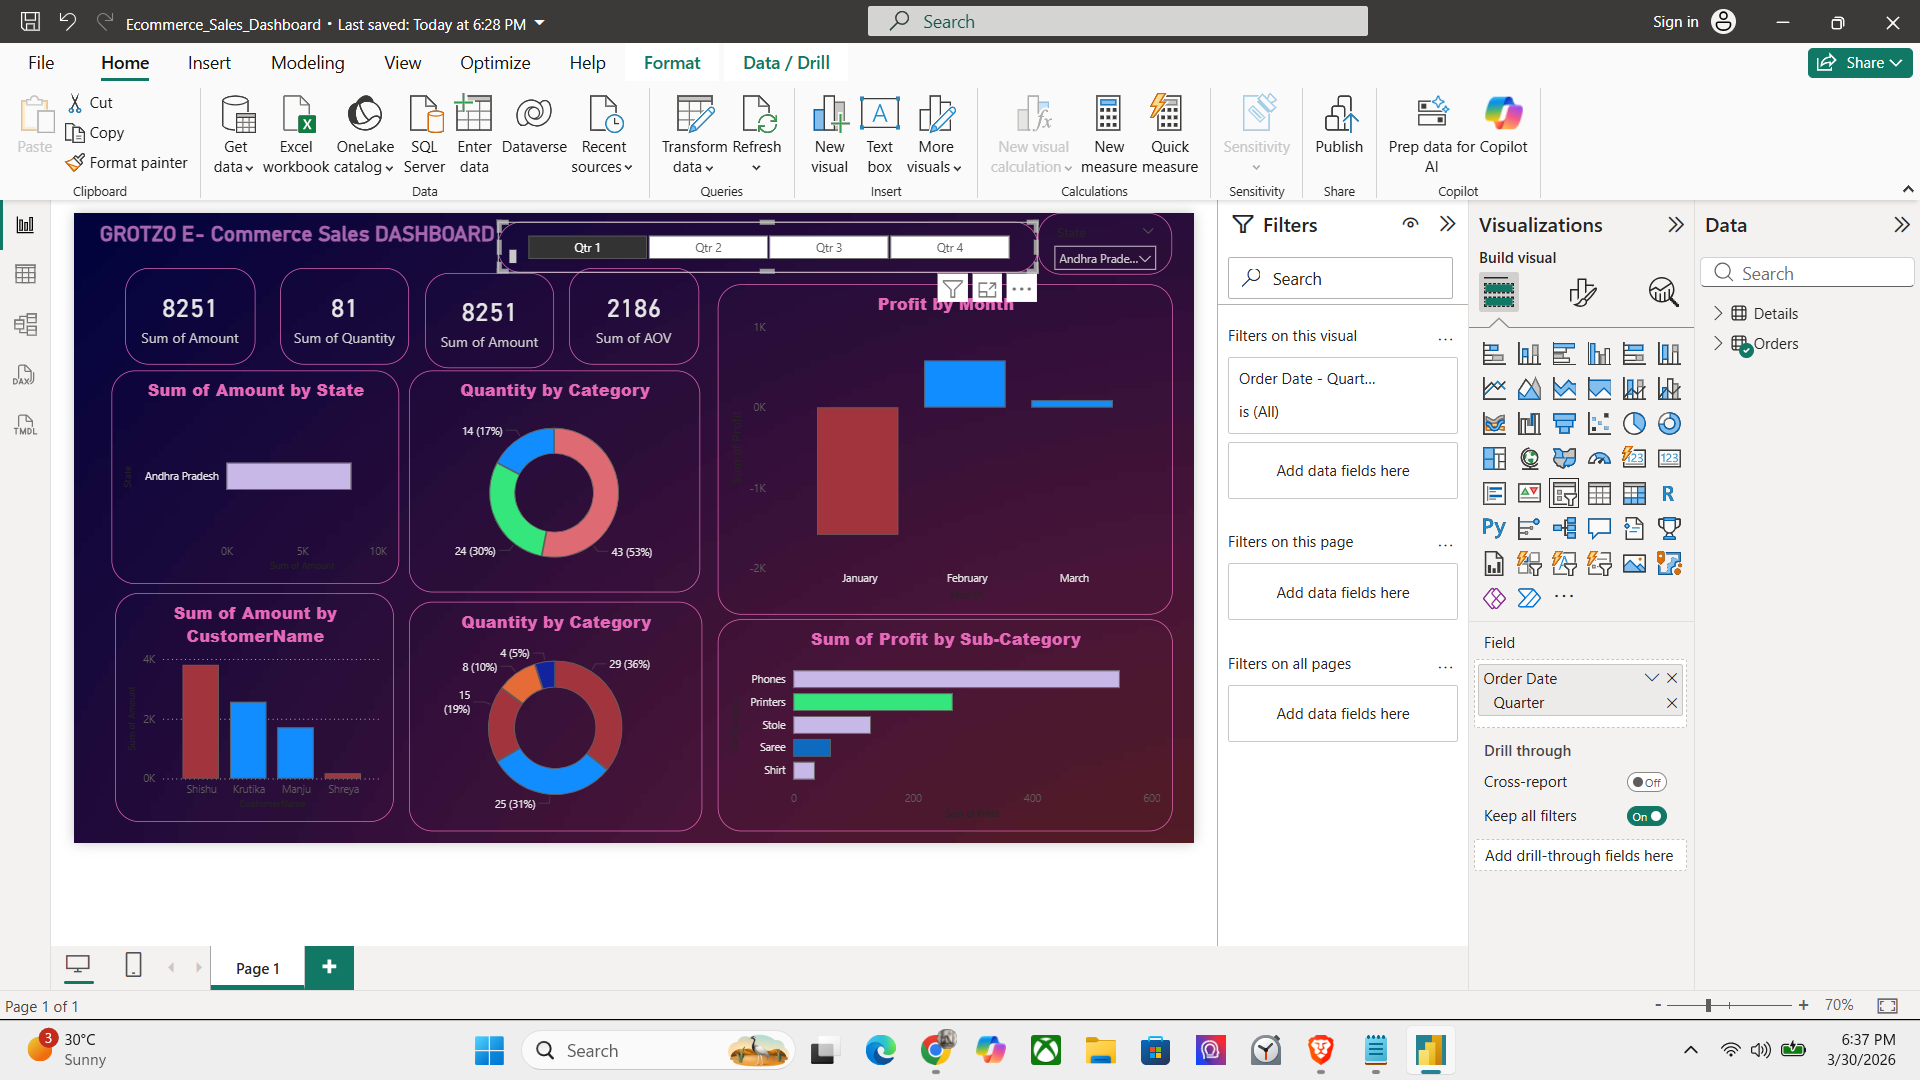

Layout of this report page (visuals, bound fields, positions):
{"tool":"powerbi","page":{"name":"Page 1","canvas":[1280,720],"ordinal":0},"visuals":[{"type":"textbox","title":"GROTZO E- Commerce Sales DASHBOARD ","box":[0,9.6,510.5,52.1],"z":0},{"type":"columnChart","title":"Profit by Month","fields":{"Category":["Orders.Order Date.Variation.Date Hierarchy.Month"],"Y":["Sum(Details.Profit)"]},"box":[735,81.2,520,377.5],"z":1000},{"type":"barChart","fields":{"Category":["Details.Sub-Category"],"Y":["Sum(Details.Profit)"]},"box":[735,463.8,520,242.5],"z":2000},{"type":"donutChart","title":"Quantity by Category","fields":{"Category":["Details.Category"],"Y":["Sum(Details.Quantity)"]},"box":[382.5,180,332.5,253.8],"z":3000},{"type":"donutChart","title":"Quantity by Category","fields":{"Y":["Sum(Details.Quantity)"],"Category":["Details.PaymentMode"]},"box":[382.5,443.8,335,262.5],"z":4000},{"type":"card","fields":{"Values":["Sum(Details.Amount)"]},"box":[58.8,62.5,148.8,110],"z":5000},{"type":"card","fields":{"Values":["Sum(Details.Quantity)"]},"box":[235,62.5,147.5,110],"z":6000},{"type":"card","fields":{"Values":["Sum(Details.Amount)"]},"box":[401.2,68.8,147.5,108.8],"z":7000},{"type":"card","fields":{"Values":["Sum(Details.AOV)"]},"box":[565,62.5,148.8,110],"z":8000},{"type":"barChart","fields":{"Category":["Orders.State"],"Y":["Sum(Details.Amount)"]},"box":[42.5,180,328.8,243.8],"z":9000},{"type":"columnChart","fields":{"Category":["Orders.CustomerName"],"Y":["Sum(Details.Amount)"]},"box":[47.5,433.8,318.8,261.2],"z":10000},{"type":"slicer","fields":{"Values":["Orders.State"]},"box":[1101.2,0,153.8,70],"z":11000},{"type":"slicer","fields":{"Values":["Orders.Order Date.Variation.Date Hierarchy.Quarter"]},"box":[483.8,10,617.5,58.8],"z":12000}]}

Visuals, with their boxes on the page's 1280x720 design canvas (x1, y1, x2, y2). These are canvas units, not pixel positions in the 1920x1080 screenshot, which may show the page scaled, cropped or inside an application window:
"GROTZO E- Commerce Sales DASHBOARD " textbox: Rect(0, 10, 510, 62)
"Profit by Month" columnChart: Rect(735, 81, 1255, 459)
barChart - Details.Sub-Category x Sum(Details.Profit): Rect(735, 464, 1255, 706)
"Quantity by Category" donutChart: Rect(382, 180, 715, 434)
"Quantity by Category" donutChart: Rect(382, 444, 718, 706)
card - Sum(Details.Amount): Rect(59, 62, 208, 172)
card - Sum(Details.Quantity): Rect(235, 62, 382, 172)
card - Sum(Details.Amount): Rect(401, 69, 549, 178)
card - Sum(Details.AOV): Rect(565, 62, 714, 172)
barChart - Orders.State x Sum(Details.Amount): Rect(42, 180, 371, 424)
columnChart - Orders.CustomerName x Sum(Details.Amount): Rect(48, 434, 366, 695)
slicer - Orders.State: Rect(1101, 0, 1255, 70)
slicer - Orders.Order Date.Variation.Date Hierarchy.Quarter: Rect(484, 10, 1101, 69)
